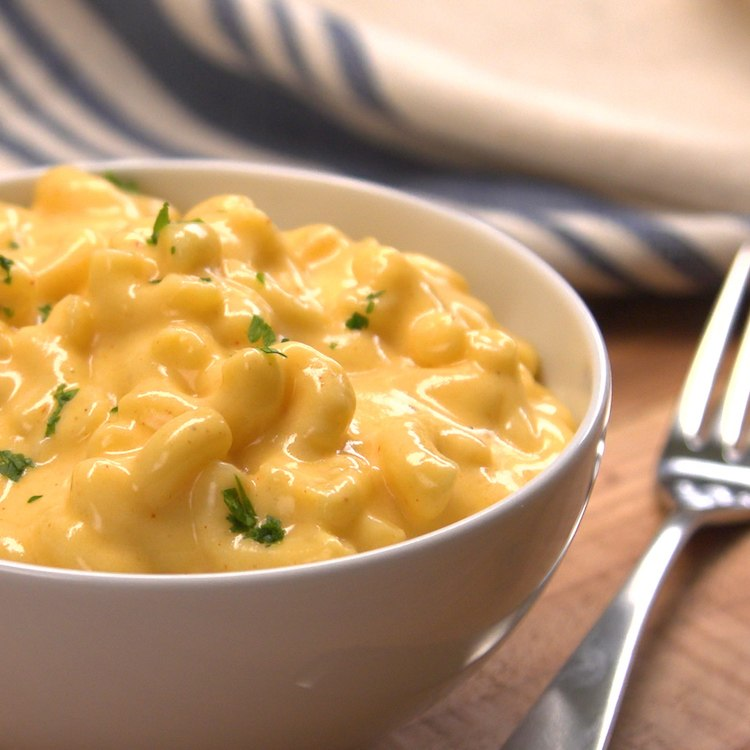macncheese: (1, 155, 577, 595)
